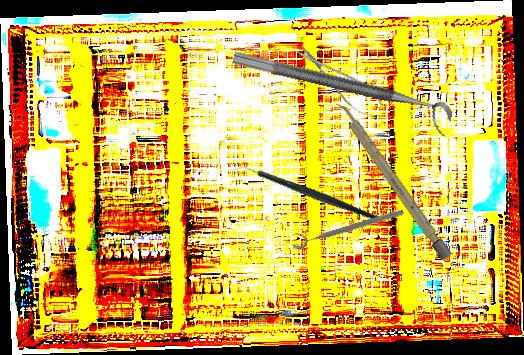Chopper: (231, 124, 379, 264)
Fixation Ring: (227, 50, 455, 137), (288, 200, 406, 252)
Micro Scissor: (287, 35, 396, 129)
Scalpel Handle: (333, 98, 453, 262)
